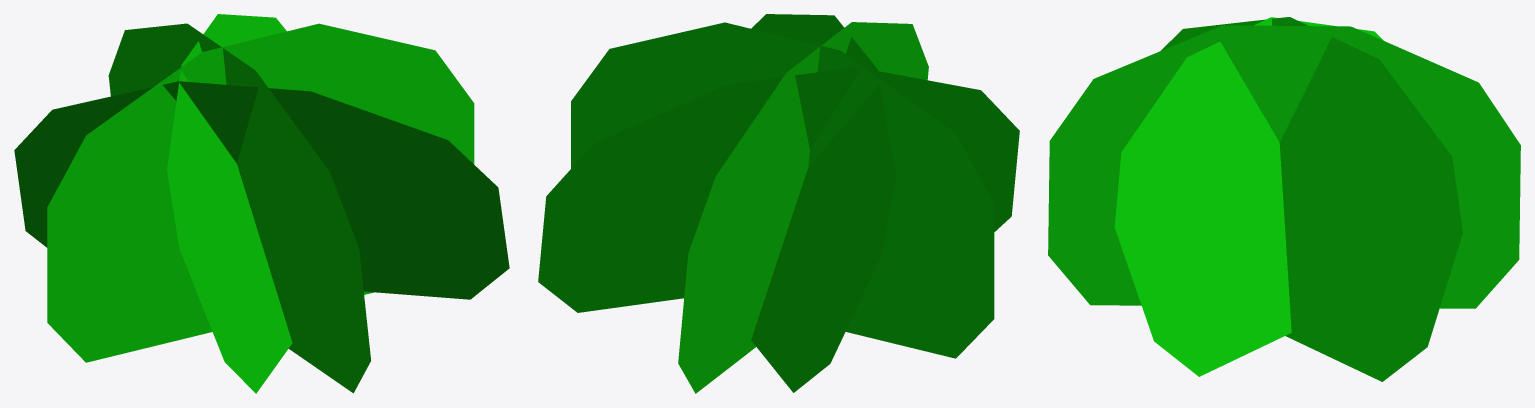
Rendered from Bush2.fbx.
The picture shows the model from 3 angles, left to right: view 1: azimuth 30°, elevation 25°; view 2: azimuth 150°, elevation 25°; view 3: azimuth 270°, elevation 25°; orthographic projection. The views are drawn at different scales.
Visible parts, largest first — view 1: bush2; view 2: bush2; view 3: bush2.
Part boxes in pixels (x1,y1,x2,y2): bush2: (14, 14, 509, 393); bush2: (538, 14, 1019, 393); bush2: (1048, 17, 1520, 381).
Bounding box in the file's own units: 60.57 × 38.54 × 60.78.
